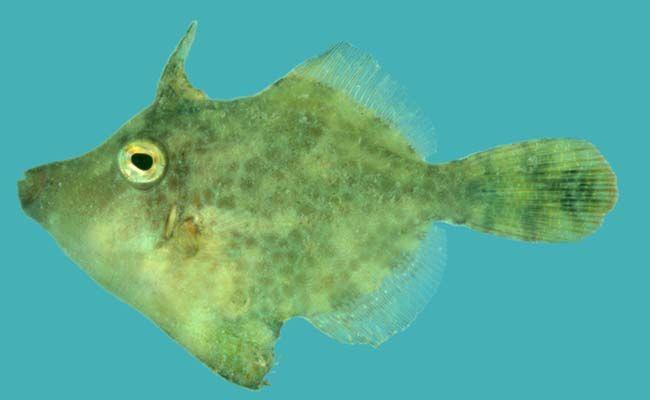fish: (15, 20, 620, 392)
